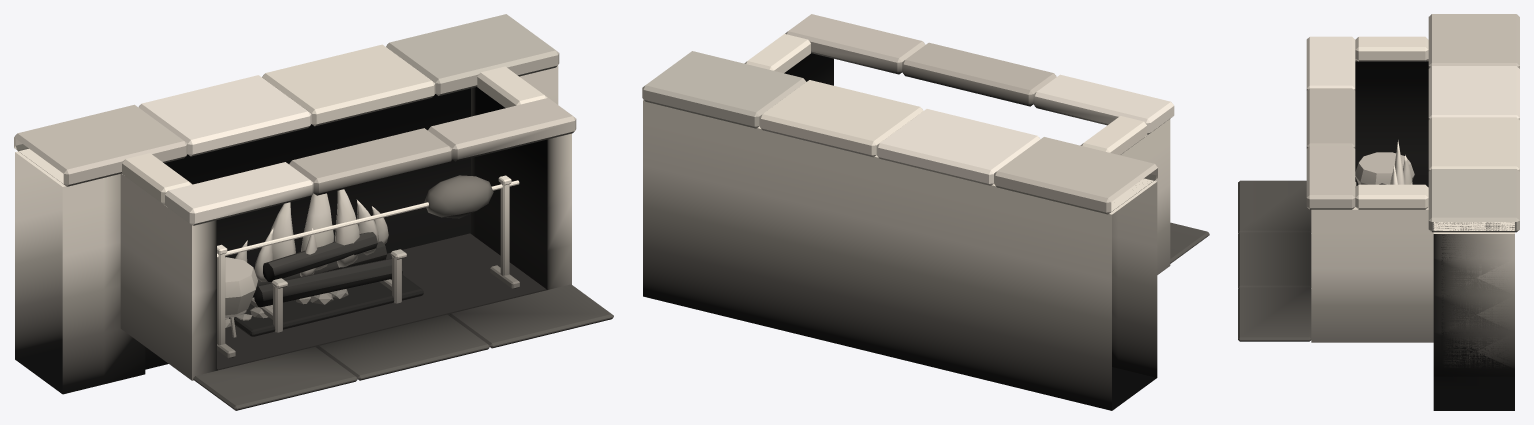
The model's file is SM_VKI_Wall_Stone_Hearth_300_Cut.fbx.
3 renders of one model, left to right at view 1: azimuth 30°, elevation 25°; view 2: azimuth 150°, elevation 25°; view 3: azimuth 270°, elevation 25°, orthographic. The views are drawn at different scales.
Visible parts, largest first — view 1: SM_VKI_Wall_Stone_Hearth_300_Cut.001; view 2: SM_VKI_Wall_Stone_Hearth_300_Cut.001; view 3: SM_VKI_Wall_Stone_Hearth_300_Cut.001.
Part boxes in pixels (bbox=[...]): SM_VKI_Wall_Stone_Hearth_300_Cut.001: bbox=[14, 14, 613, 410]; SM_VKI_Wall_Stone_Hearth_300_Cut.001: bbox=[642, 14, 1209, 410]; SM_VKI_Wall_Stone_Hearth_300_Cut.001: bbox=[1238, 14, 1519, 410].
Bounding box in the file's own units: 3 × 1.3 × 1.73.
